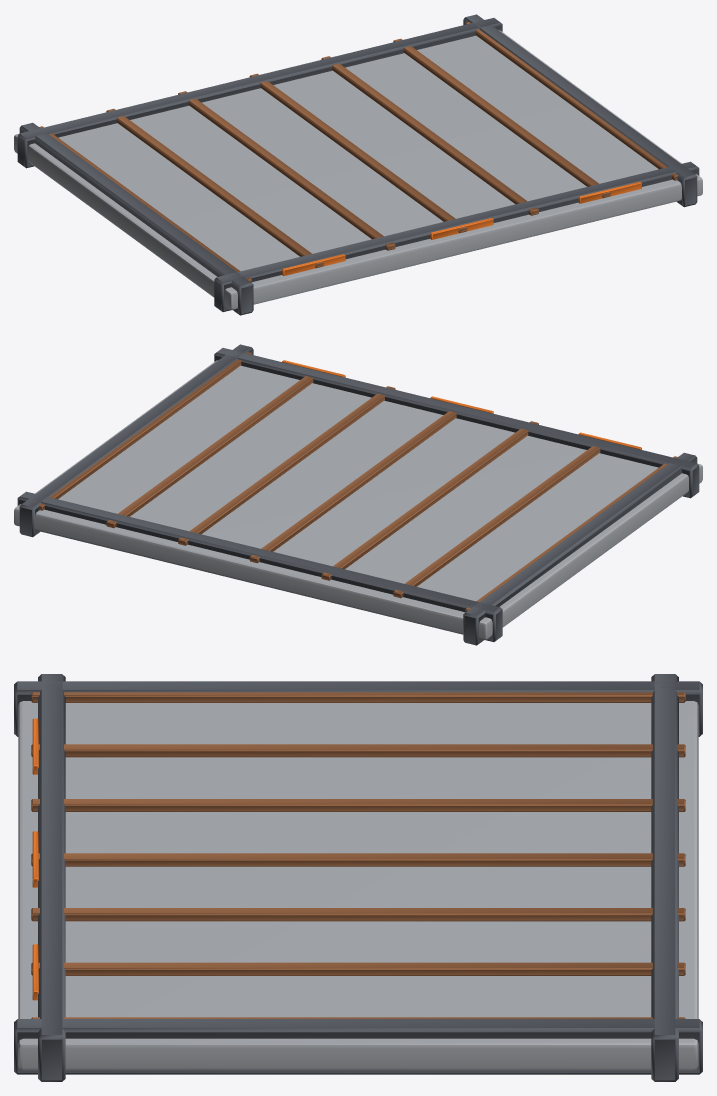
File: gantry_deck.glb
The picture shows the model from 3 angles, top to bottom: view 1: azimuth 30°, elevation 25°; view 2: azimuth 150°, elevation 25°; view 3: azimuth 270°, elevation 25°; orthographic projection. The views are drawn at different scales.
Parts seen in each view (by area): view 1: gantry_deck; view 2: gantry_deck; view 3: gantry_deck.
Boxes of the visible parts, box(x1,y1,x2,y2) form: gantry_deck: box(14, 14, 702, 315); gantry_deck: box(14, 344, 702, 645); gantry_deck: box(14, 674, 702, 1081).
Bounding box in the file's own units: 5 × 0.3 × 4.
